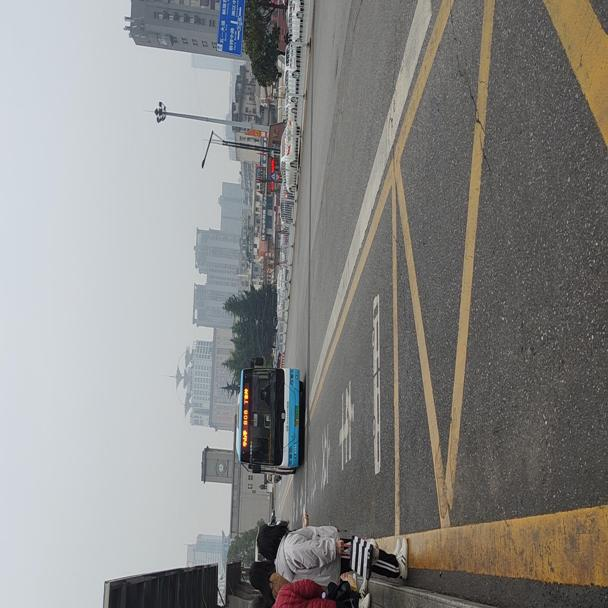bus: (233, 360, 304, 477)
screen: (241, 405, 248, 419)
